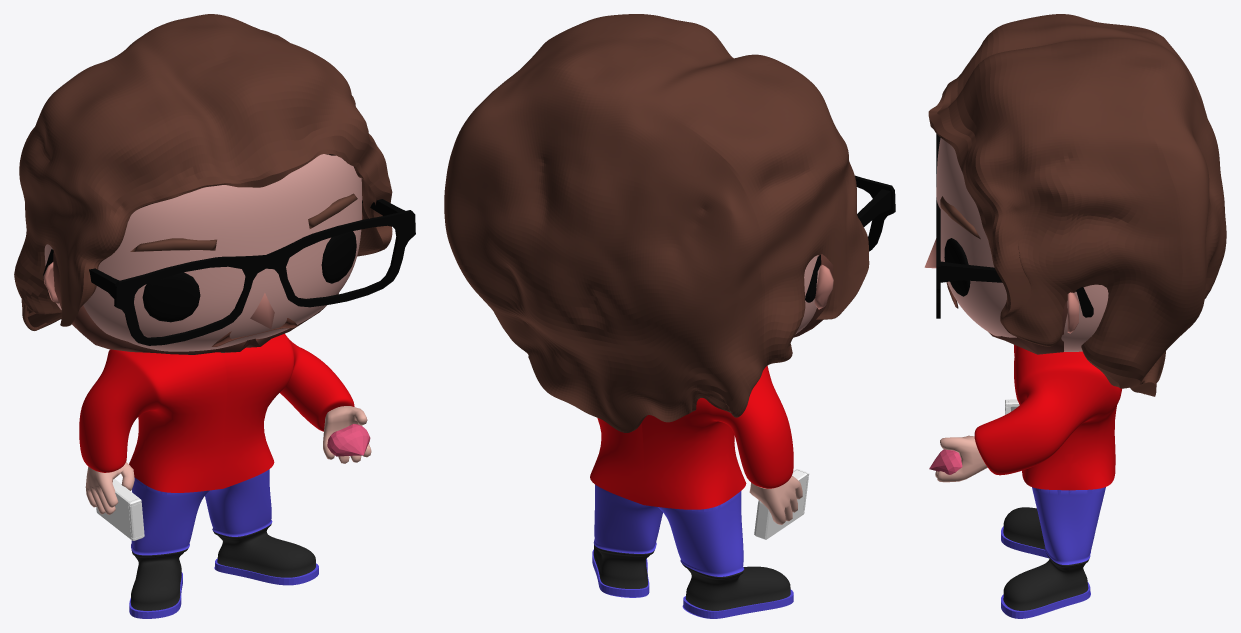
The model's file is Funko Jordi.fbx.
The picture shows the model from 3 angles, left to right: view 1: azimuth 30°, elevation 25°; view 2: azimuth 150°, elevation 25°; view 3: azimuth 270°, elevation 25°; orthographic projection. The views are drawn at different scales.
Visible parts, largest first — view 1: Cube, Cube.002, Cube.003, Cube.005, Cube.001, Cube.004, Plane.001, GameBoy_01(1), Plane.002, Heart.2; view 2: Cube, Cube.003, Cube.005, Cube.001, Cube.004, Cube.002, GameBoy_01(1); view 3: Cube, Cube.003, Cube.005, Cube.002, Cube.001, Cube.004, Plane.001, Heart.2, Plane.002.
Boxes of the visible parts, bbox=[...] form: Cube: bbox=[14, 14, 392, 330]; Cube.002: bbox=[43, 154, 362, 351]; Cube.003: bbox=[79, 333, 354, 492]; Cube.005: bbox=[129, 469, 318, 618]; Cube.001: bbox=[43, 199, 415, 345]; Cube.004: bbox=[85, 406, 371, 514]; Plane.001: bbox=[53, 212, 363, 354]; GameBoy_01(1): bbox=[96, 479, 144, 540]; Plane.002: bbox=[130, 193, 357, 251]; Heart.2: bbox=[327, 424, 370, 456]; Cube: bbox=[444, 14, 869, 432]; Cube.003: bbox=[590, 366, 793, 509]; Cube.005: bbox=[592, 484, 793, 618]; Cube.001: bbox=[805, 175, 895, 302]; Cube.004: bbox=[749, 476, 802, 524]; Cube.002: bbox=[795, 255, 833, 334]; GameBoy_01(1): bbox=[754, 469, 809, 539]; Cube: bbox=[928, 14, 1226, 396]; Cube.003: bbox=[974, 344, 1121, 490]; Cube.005: bbox=[1001, 487, 1105, 618]; Cube.002: bbox=[924, 138, 1108, 351]; Cube.001: bbox=[936, 134, 1093, 318]; Cube.004: bbox=[935, 435, 987, 482]; Plane.001: bbox=[988, 301, 1067, 354]; Heart.2: bbox=[929, 449, 962, 474]; Plane.002: bbox=[940, 196, 980, 239].
Size of the model in its own units: 258 by 406 by 208.
